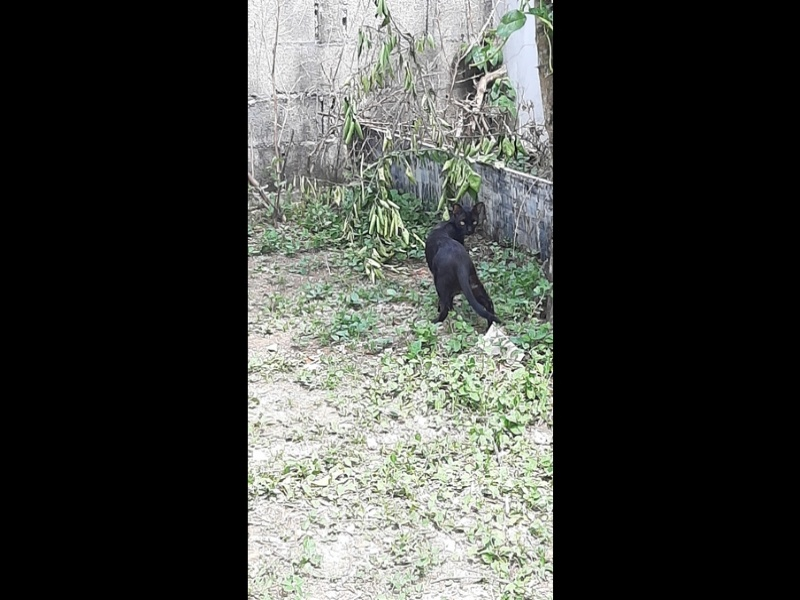cat: (418, 198, 505, 343)
